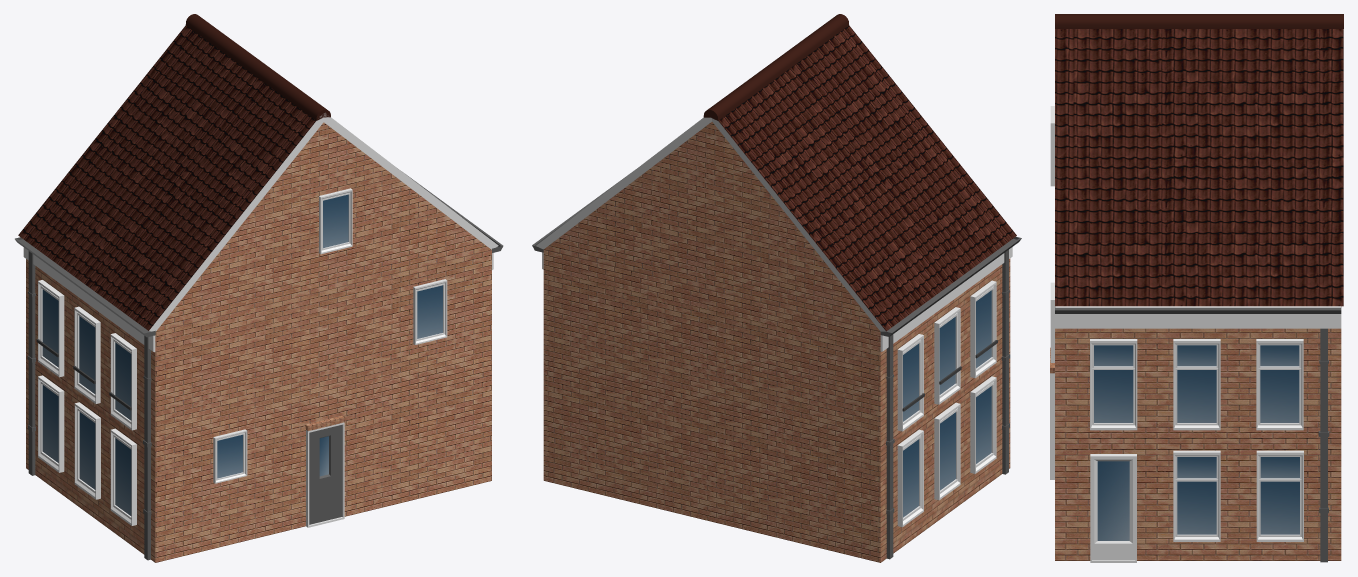
Rendered from It_Bûthús_23.fbx.
3 views of the same model, side by side, from view 1: azimuth 30°, elevation 25°; view 2: azimuth 150°, elevation 25°; view 3: azimuth 270°, elevation 25° (orthographic). The views are drawn at different scales.
Visible parts, largest first — view 1: It_Bûthús_23; view 2: It_Bûthús_23; view 3: It_Bûthús_23.
Boxes of the visible parts, <box> form: It_Bûthús_23: <box>15,14,503,562</box>; It_Bûthús_23: <box>532,14,1021,562</box>; It_Bûthús_23: <box>1050,14,1343,562</box>.
Size of the model in its own units: 929 by 1018 by 595.
